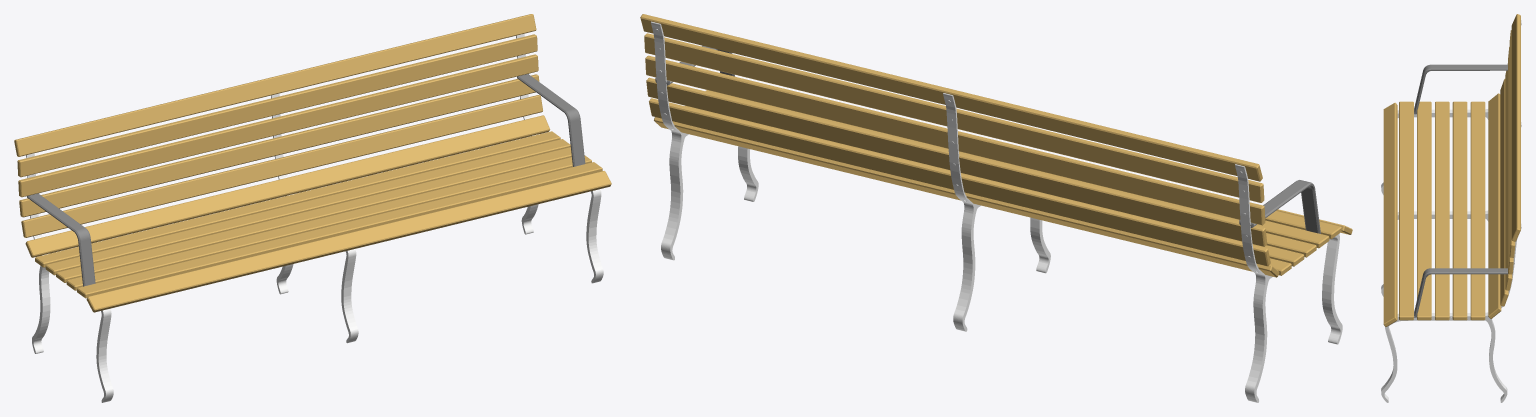
The model's file is Bench.glb.
3 views of the same model, side by side, from view 1: azimuth 30°, elevation 25°; view 2: azimuth 150°, elevation 25°; view 3: azimuth 270°, elevation 25° (orthographic). The views are drawn at different scales.
Visible parts, largest first — view 1: Back_Slat_6, Back_Slat_4, Back_Slat_5, Back_Slat_2, Back_Slat_1, Seat_Slat_1, Back_Slat_3, Seat_Slat_2, Seat_Slat_6, Seat_Slat_5, Seat_Slat_4, Seat_Slat_3 (+6 smaller); view 2: Back_Slat_4, Back_Slat_5, Back_Slat_3, Back_Slat_2, Back_Slat_6, Back_Slat_1, Leg_L, Seat_Slat_3, Leg_R, Leg_C, Arm_Rest_L, Seat_Slat_5 (+8 smaller); view 3: Seat_Slat_5, Seat_Slat_6, Seat_Slat_2, Seat_Slat_1, Seat_Slat_4, Seat_Slat_3, Back_Slat_1, Back_Slat_6, Back_Slat_2, Cap_2_2, Arm_Rest_R, Back_Slat_5 (+6 smaller).
Part boxes in pixels (<box>): Back_Slat_6: <box>14,14,536,156</box>; Back_Slat_4: <box>18,54,538,197</box>; Back_Slat_5: <box>17,34,537,177</box>; Back_Slat_2: <box>21,95,542,237</box>; Back_Slat_1: <box>25,115,550,257</box>; Seat_Slat_1: <box>86,171,611,312</box>; Back_Slat_3: <box>19,74,539,217</box>; Seat_Slat_2: <box>77,162,602,298</box>; Seat_Slat_6: <box>35,131,560,267</box>; Seat_Slat_5: <box>45,139,570,275</box>; Seat_Slat_4: <box>56,147,571,282</box>; Seat_Slat_3: <box>66,155,591,290</box>; Back_Slat_4: <box>645,55,1265,225</box>; Back_Slat_5: <box>644,33,1264,202</box>; Back_Slat_3: <box>646,77,1267,246</box>; Back_Slat_2: <box>649,98,1270,266</box>; Back_Slat_6: <box>640,14,1262,181</box>; Back_Slat_1: <box>654,117,1279,277</box>; Leg_L: <box>1245,236,1340,402</box>; Seat_Slat_3: <box>705,90,1329,248</box>; Leg_R: <box>661,129,756,260</box>; Leg_C: <box>953,201,1048,331</box>; Arm_Rest_L: <box>1239,180,1319,233</box>; Seat_Slat_5: <box>685,106,1304,266</box>; Seat_Slat_5: <box>1452,101,1467,320</box>; Seat_Slat_6: <box>1470,101,1485,320</box>; Seat_Slat_2: <box>1399,101,1413,320</box>; Seat_Slat_1: <box>1383,102,1397,326</box>; Seat_Slat_4: <box>1435,101,1449,320</box>; Seat_Slat_3: <box>1417,101,1431,320</box>; Back_Slat_1: <box>1488,93,1501,318</box>; Back_Slat_6: <box>1511,14,1520,241</box>; Back_Slat_2: <box>1500,79,1508,306</box>; Cap_2_2: <box>1381,316,1507,402</box>; Arm_Rest_R: <box>1414,268,1512,317</box>; Back_Slat_5: <box>1509,30,1515,257</box>.
Bounding box in the file's own units: 356 × 138 × 98.28.
